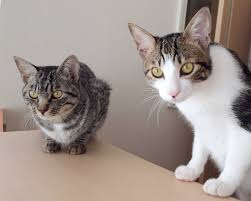cat: (124, 7, 251, 199), (12, 54, 115, 158)
